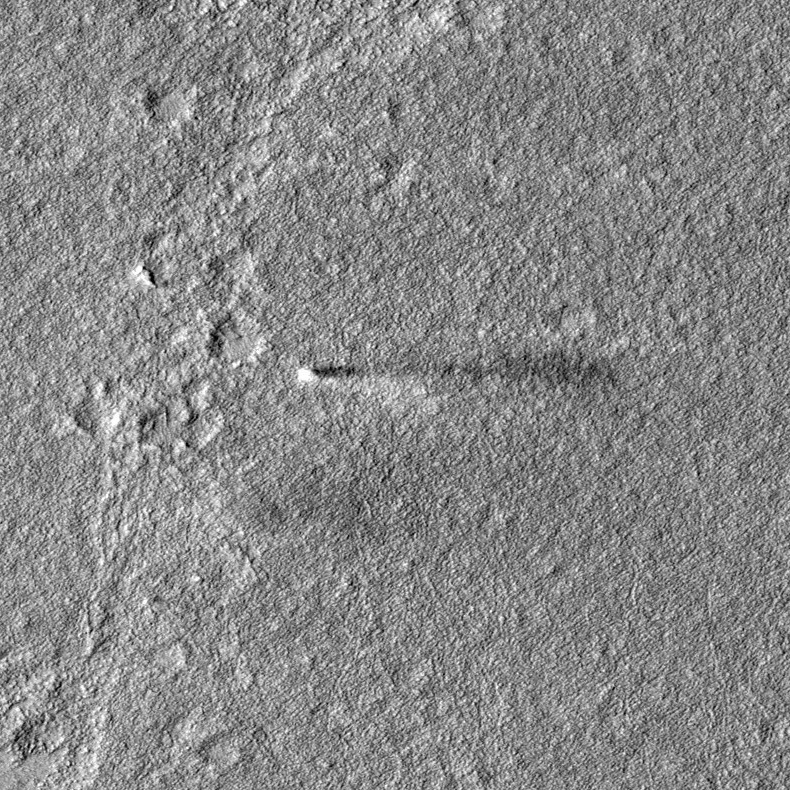dust_devil: (292, 342, 620, 405)
